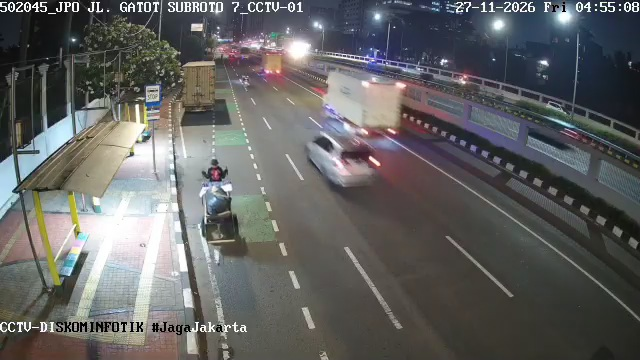Gerobak: (199, 159, 239, 243)
